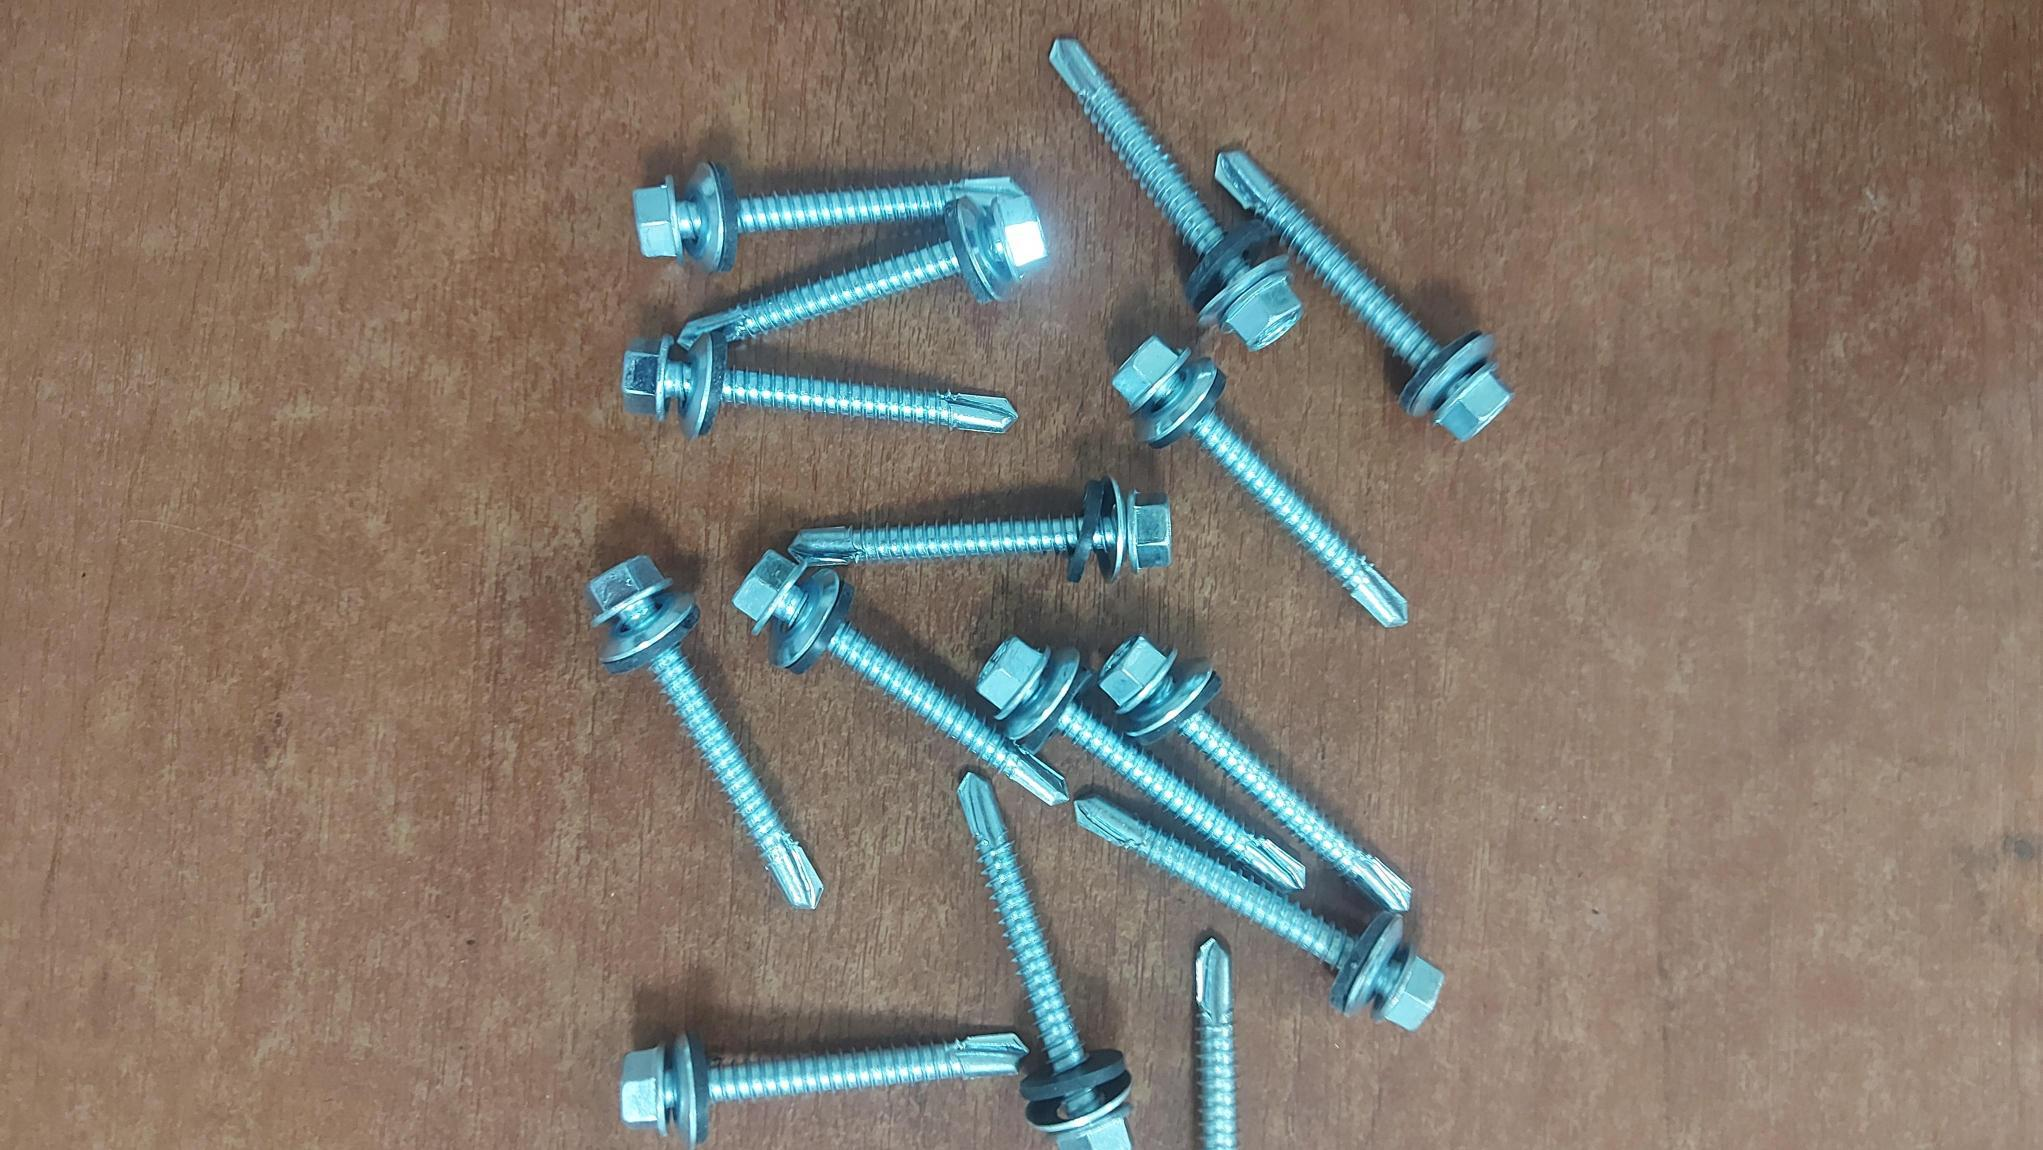Screw: (1097, 635, 1412, 912), (1073, 797, 1441, 1029), (1217, 150, 1511, 440), (1111, 338, 1407, 625), (732, 553, 1066, 804), (977, 637, 1305, 889), (587, 555, 821, 907), (1050, 38, 1301, 348), (958, 773, 1130, 1149), (679, 194, 1045, 346), (620, 1034, 1026, 1146), (622, 330, 1016, 438), (633, 163, 1021, 271), (790, 477, 1170, 581), (1194, 938, 1236, 1149)
